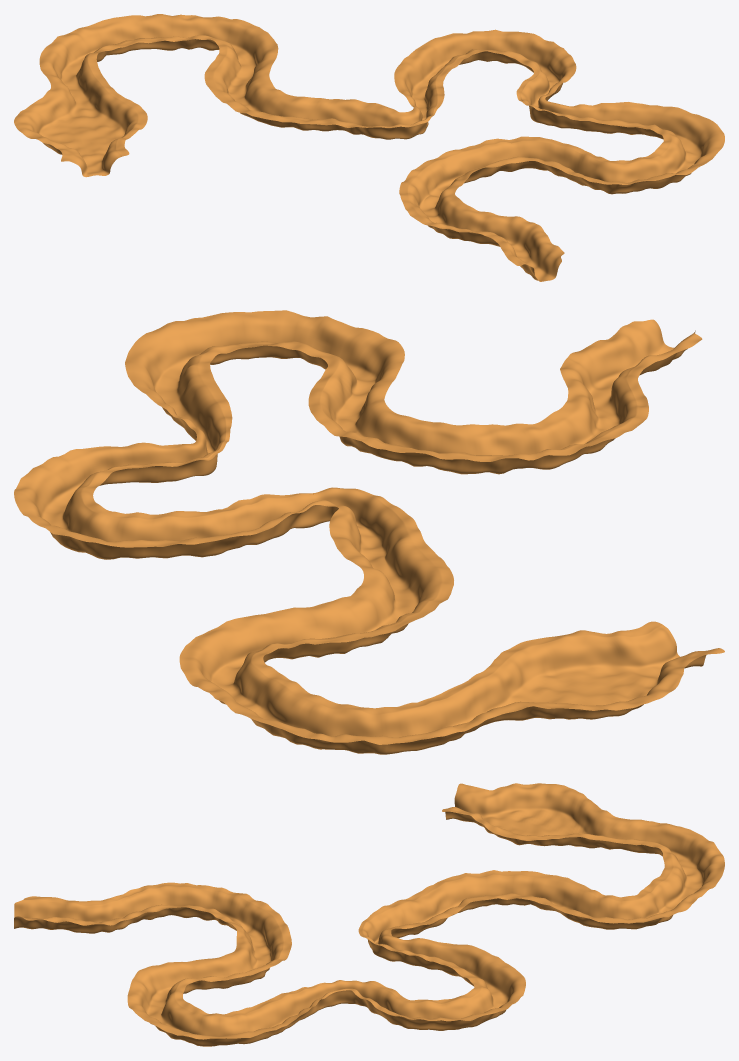
The model's file is trench02.glb.
3 renders of one model, top to bottom at view 1: azimuth 30°, elevation 25°; view 2: azimuth 150°, elevation 25°; view 3: azimuth 270°, elevation 25°, orthographic. The views are drawn at different scales.
Parts seen in each view (by area): view 1: trench2-col; view 2: trench2-col; view 3: trench2-col.
Boxes of the visible parts, x1=… form: trench2-col: x1=14, y1=14, x2=724, y2=281; trench2-col: x1=14, y1=310, x2=724, y2=754; trench2-col: x1=14, y1=783, x2=724, y2=1046.
Size of the model in its own units: 4869 by 193 by 5723.
